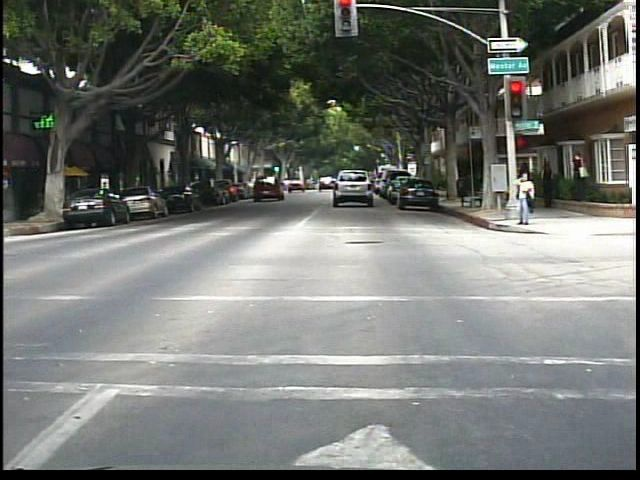person: (511, 169, 538, 229), (567, 149, 592, 203), (538, 159, 561, 217), (516, 158, 536, 213)
